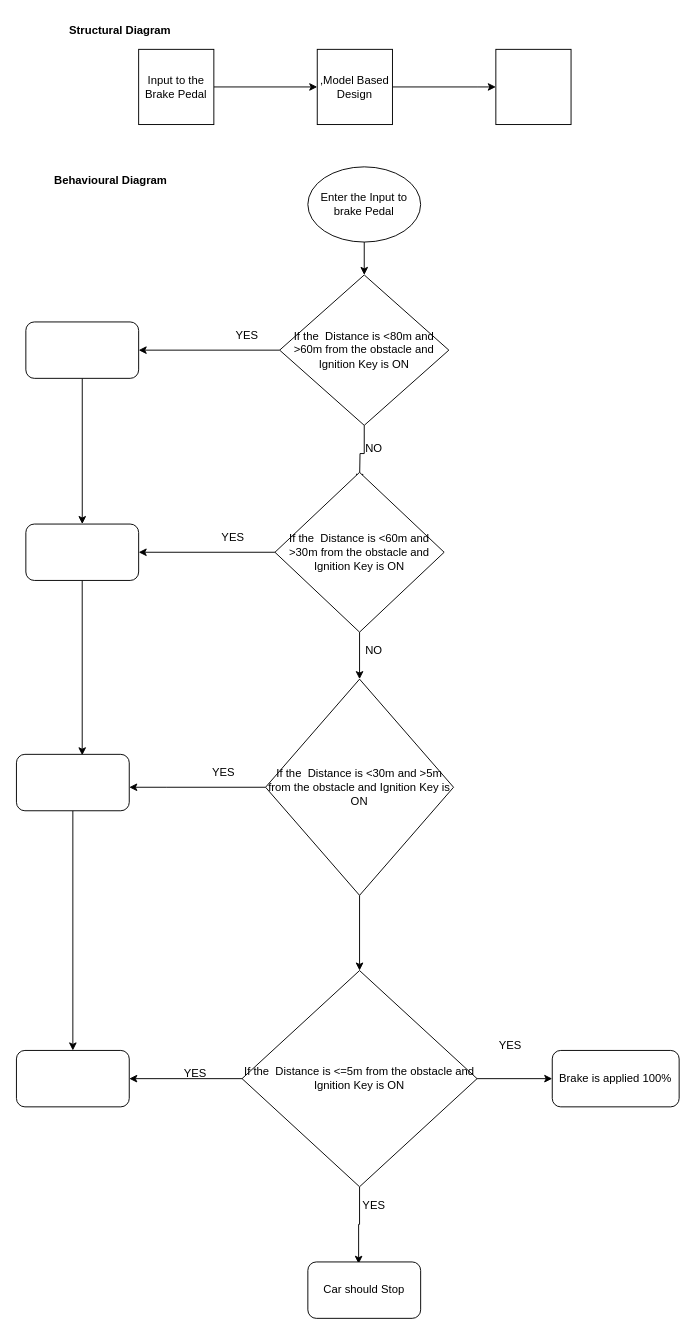
The diagram is 696 pixels wide and 1335 high, and some of its shapes have lost their labels. The centre of each missing label's shape, as x and y in pixels:
Brake Light is ON: [72,1078]
Brake Light should be ON: [533,86]
Brake pressure is high: [72,782]
Brake pressure is medium: [82,551]
Brake pressure is Slow: [82,349]
